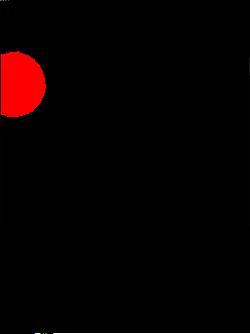stamp: (1, 52, 45, 118)
